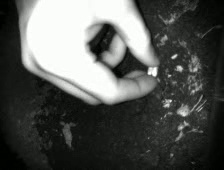corn: (151, 64, 159, 80), (145, 65, 154, 78)
